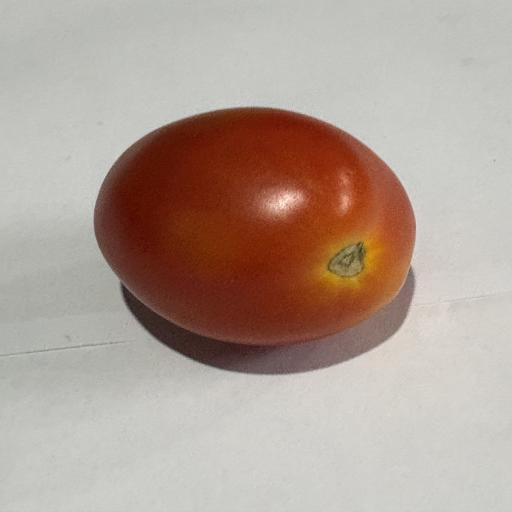ripe: (94, 108, 415, 346)
